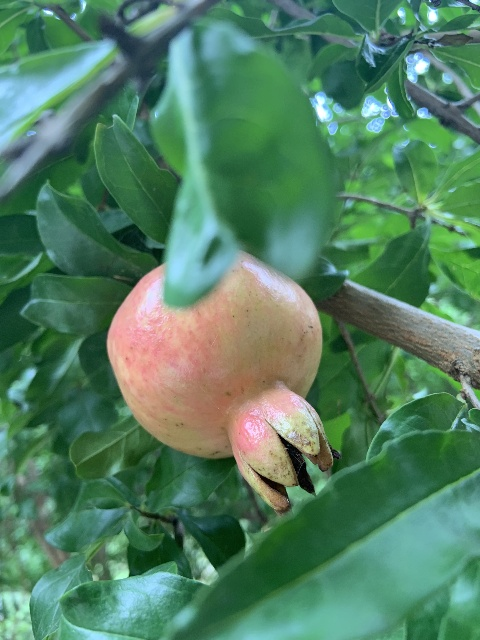ripe: (106, 249, 332, 511)
